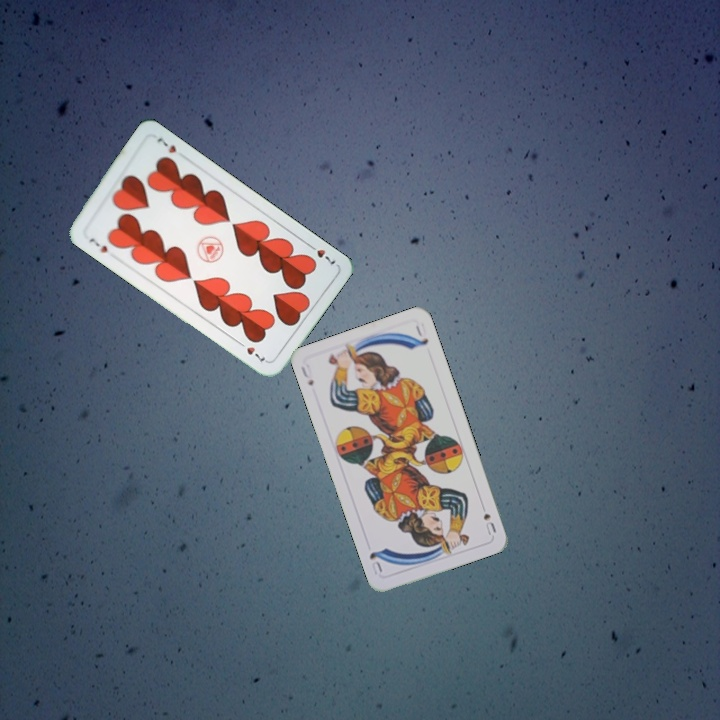H7: (304, 239, 338, 267), (85, 234, 110, 256)
SU: (479, 509, 499, 538), (297, 362, 316, 389)
